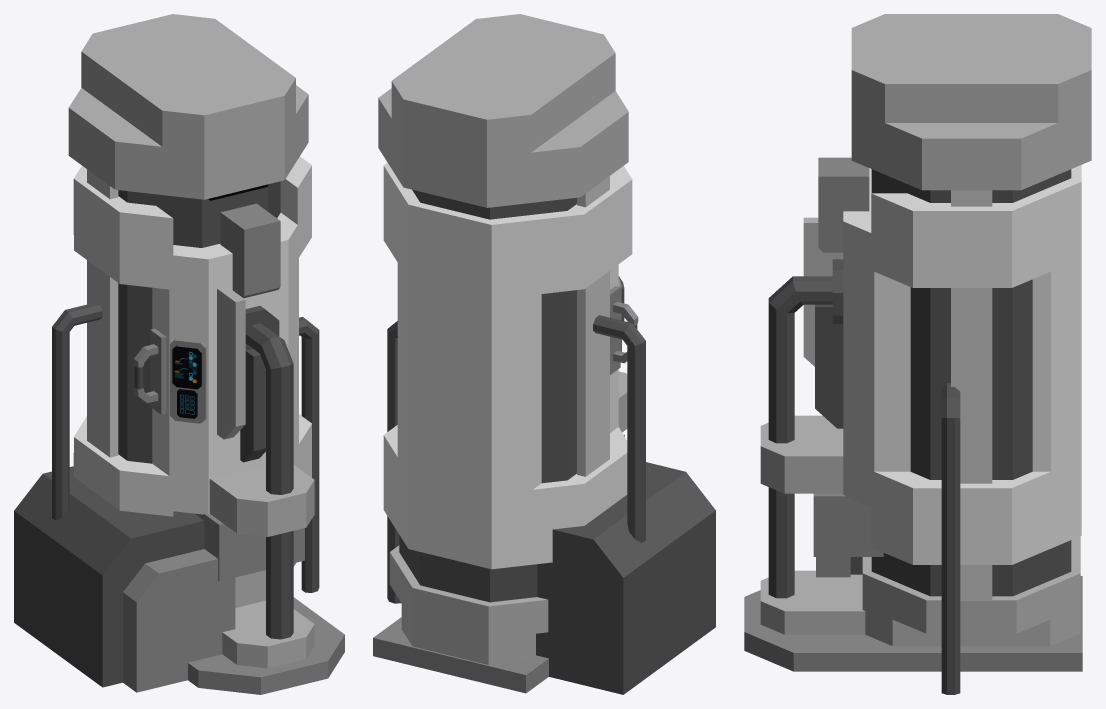
Rendered from SM_Machine_6.fbx.
3 views of the same model, side by side, from view 1: azimuth 30°, elevation 25°; view 2: azimuth 150°, elevation 25°; view 3: azimuth 270°, elevation 25° (orthographic). The views are drawn at different scales.
Visible parts, largest first — view 1: SM_Machine_6; view 2: SM_Machine_6; view 3: SM_Machine_6.
Boxes of the visible parts, x1,y1,x2,y2 form: SM_Machine_6: (14,14,344,694); SM_Machine_6: (373,14,715,694); SM_Machine_6: (744,14,1091,694).
Bounding box in the file's own units: 200 × 394 × 212.
